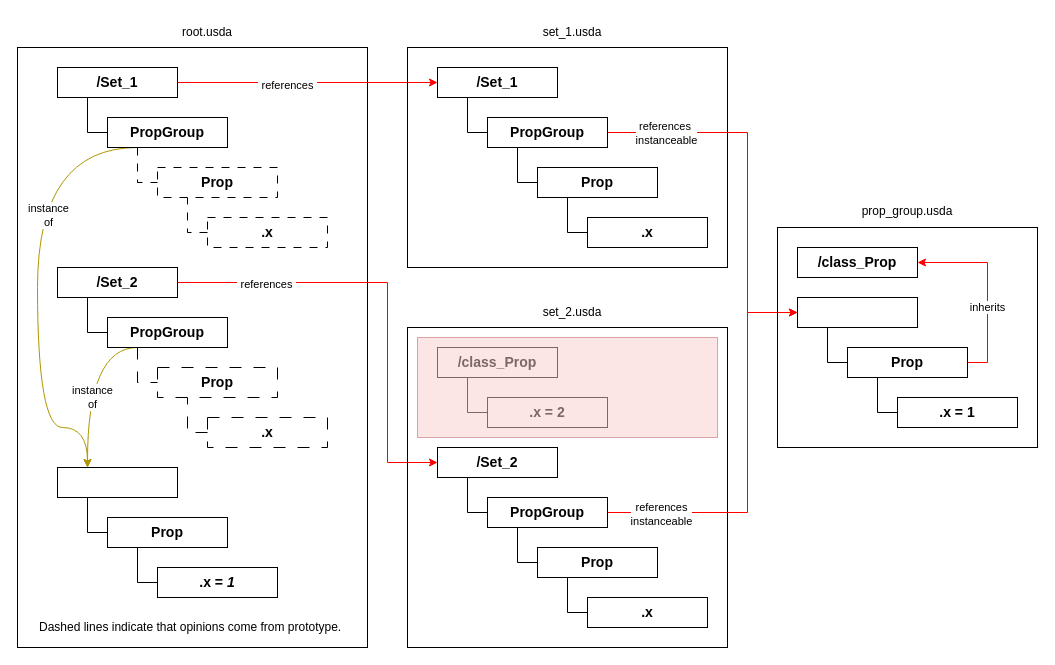
This 1055x665 diagram has some shape labels left out. The box of each missing label's shape, as (x1, y1, x2, y2) in pixels:
/__Prototype_1: (56, 466, 178, 498)
/PropGroup: (796, 296, 918, 328)
This override would be ignored under proposed solution: (416, 336, 718, 438)
